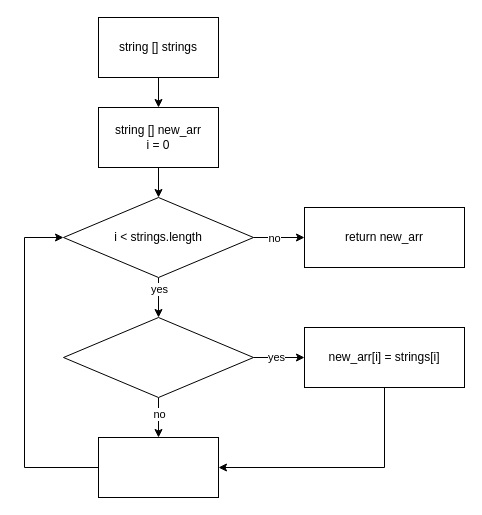
The diagram is 482 pixels wide and 515 high, and some of its shapes have lost their labels. The centre of each missing label's shape, as x and y in pixels:
i++: (x=158, y=467)
strings[i].length <= 3: (x=158, y=357)
